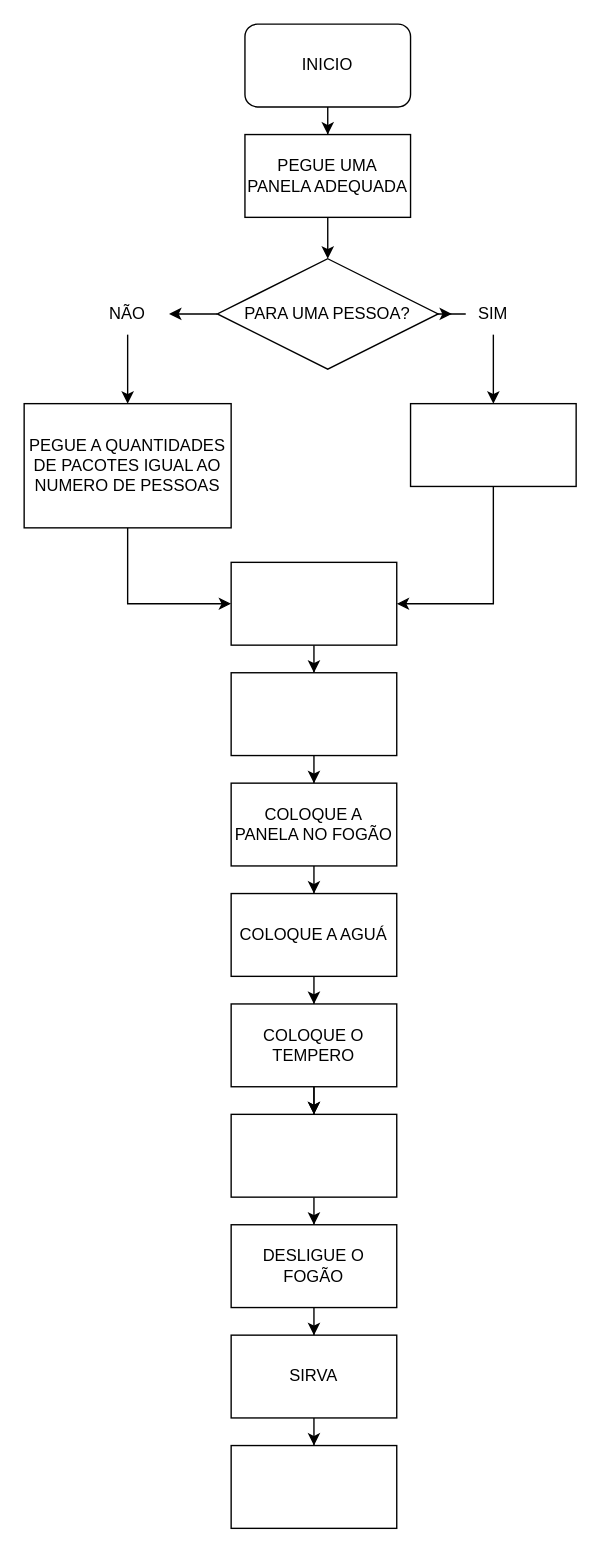
Some shapes in this 600 by 1553 pixel diagram are drawn without their labels. Each missing label, with the box of its shape:
AGUARDE 3 MINUTO APÓS O INÍCIO DO FEVER DA AGUÁ: (230, 1113, 397, 1197)
FIM: (230, 1444, 397, 1528)
LIGUE O FOGÃO: (230, 671, 397, 756)
PEGUE UM PACOTE: (409, 402, 576, 486)
SEPARE A PORÇÃO DE AGUÁ PARA O COZIMENTO: (230, 561, 397, 645)
